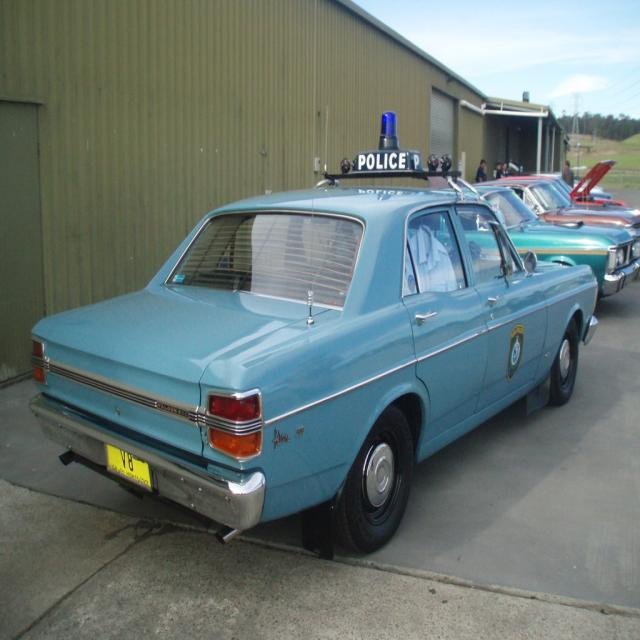Car: (28, 112, 640, 556)
